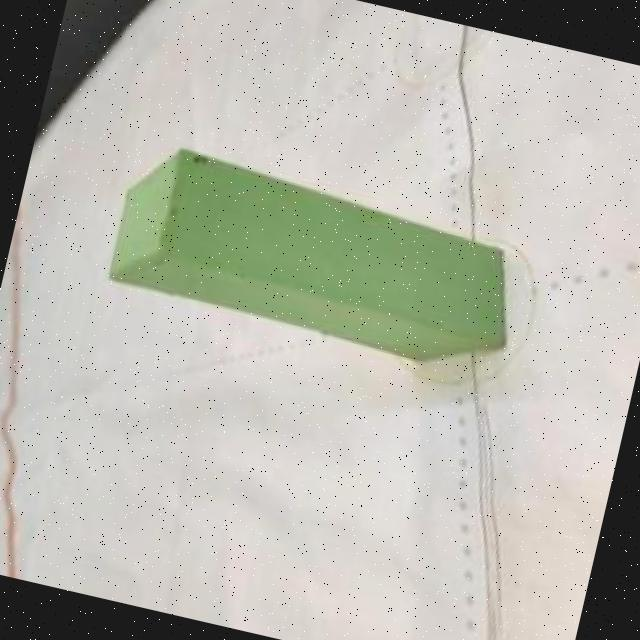greenbox: (101, 139, 528, 380)
